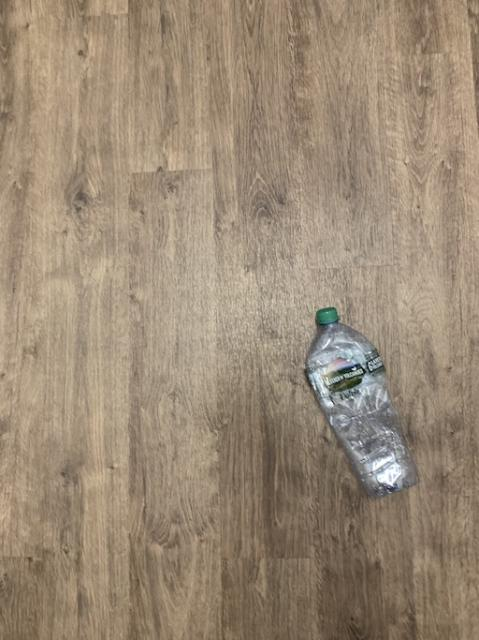plastic: (305, 306, 417, 497)
